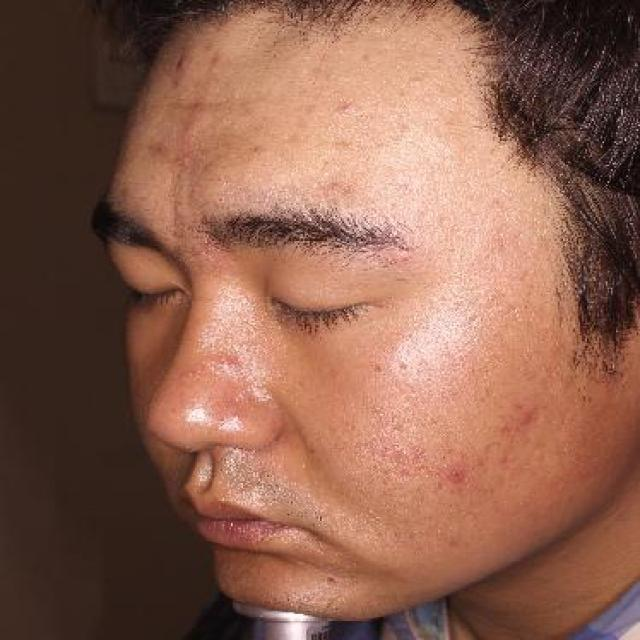Acne: (436, 460, 484, 492), (510, 397, 549, 435)
Blackheads: (318, 569, 346, 591)
Whiteheads: (332, 97, 361, 117)
